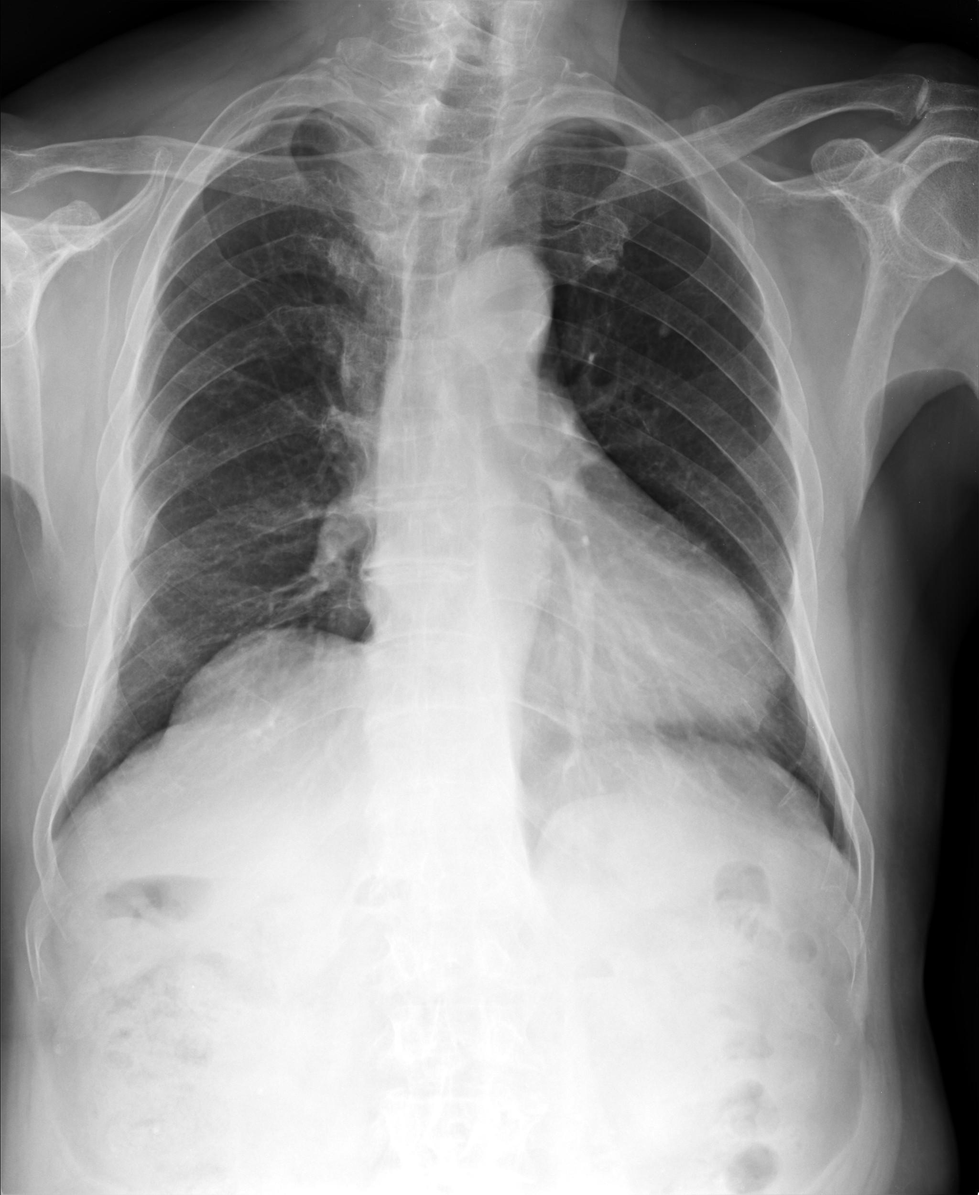Cardiomegaly: (358, 590, 776, 722)
